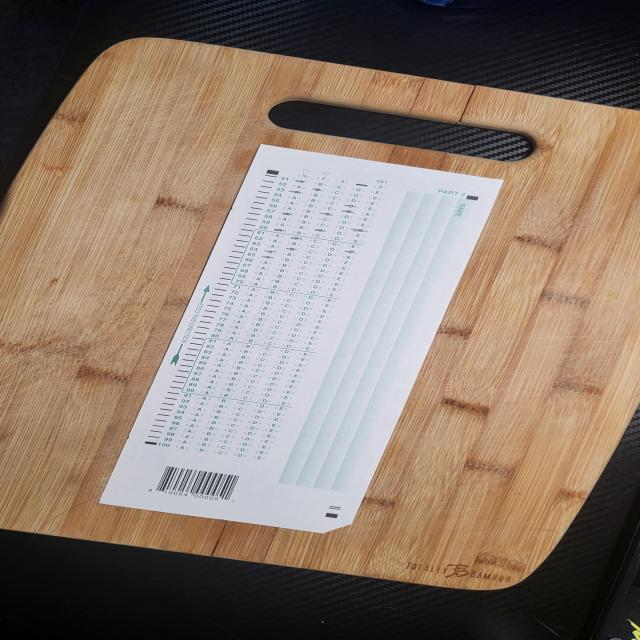scantron_back: (97, 143, 508, 534)
